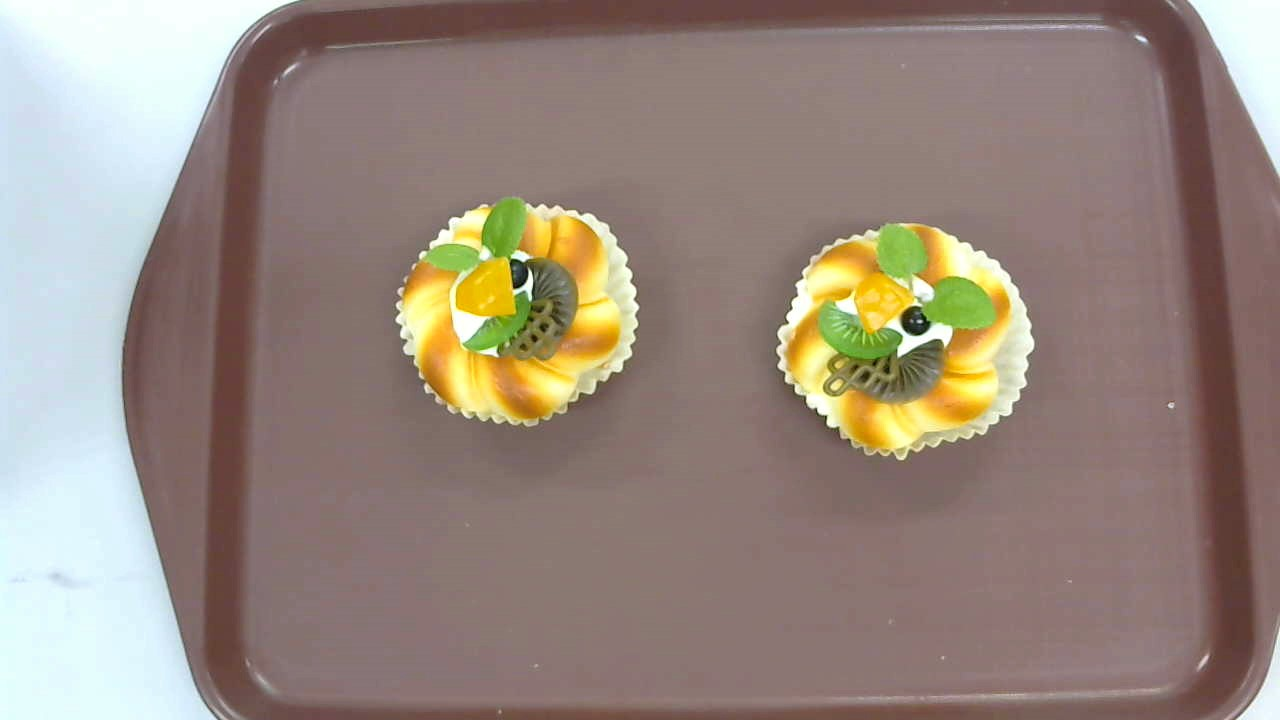fruit tart: (774, 222, 1035, 460), (395, 195, 641, 428)
